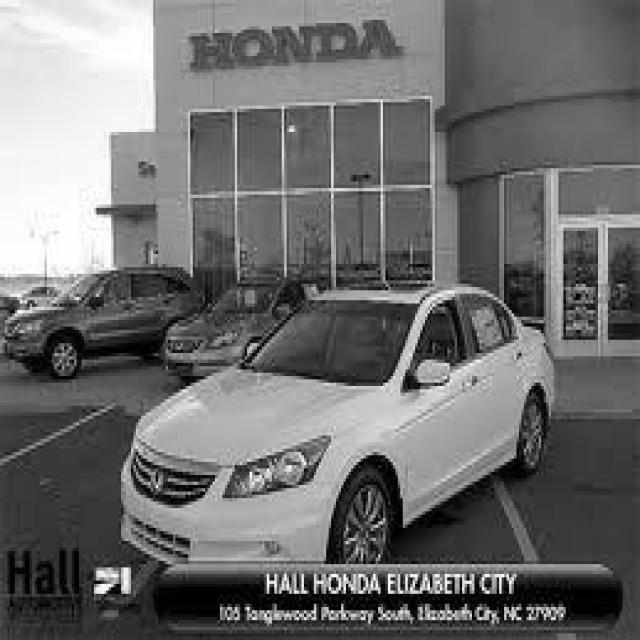car: (119, 280, 554, 568), (0, 264, 203, 379), (160, 274, 328, 382)
